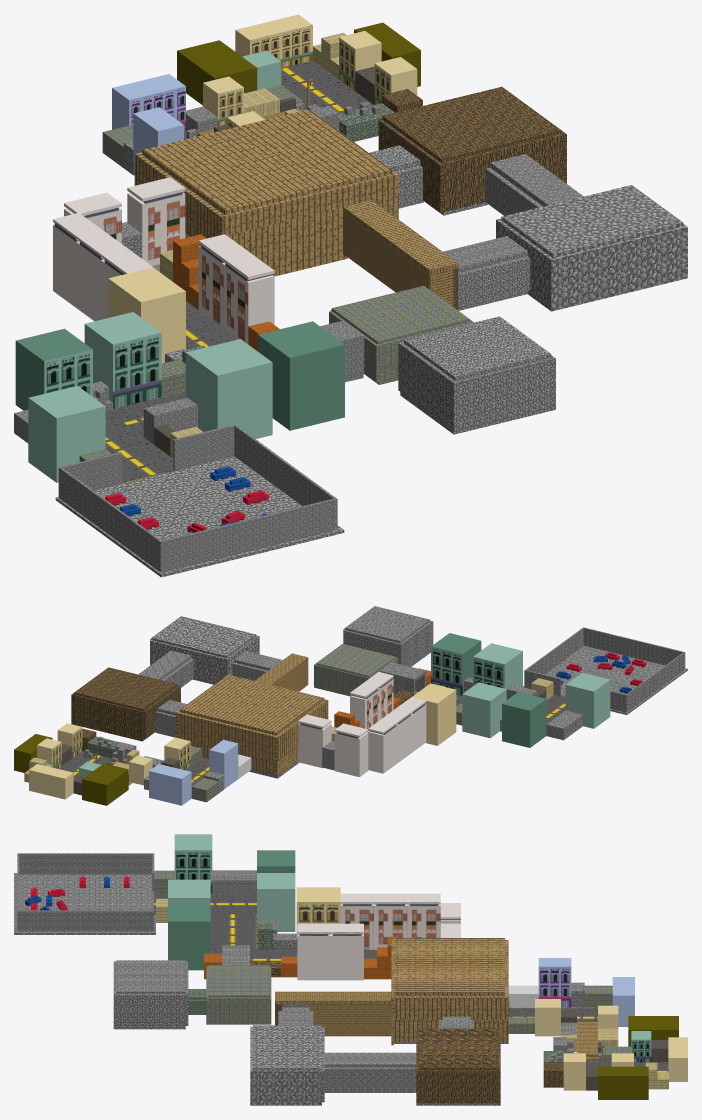
Rendered from Lv1Ver2.fbx.
3 views of the same model, one above another, from view 1: azimuth 30°, elevation 25°; view 2: azimuth 150°, elevation 25°; view 3: azimuth 270°, elevation 25° (orthographic). The views are drawn at different scales.
Parts seen in each view (by area): view 1: Room.017, Room.001, Room.003, Room.005, CarfFoor, Mountain.039, Mountain.045, Room.002, Mountain.042, Wall.002, Mountain.055, Mountain.044 (+39 smaller); view 2: Room.017, Room.005, Room.001, Room.003, Room.002, CarfFoor, Mountain.039, Mountain.044, Mountain.042, Mountain.055, Mountain.045, Mountain.035 (+36 smaller); view 3: Room.017, Room.005, Room.001, Room.003, CarfFoor, Room.002, Wall.003, Wall.001, Mountain.039, Tube.017, Tube.006, Mountain.042 (+36 smaller).
Part boxes in pixels (box(x1,y1,x2,y2)): Room.017: box(134, 109, 395, 276); Room.001: box(496, 185, 687, 311); Room.003: box(398, 316, 555, 434); Room.005: box(378, 86, 566, 212); CarfFoor: box(55, 456, 344, 577); Mountain.039: box(258, 321, 344, 430); Mountain.045: box(185, 339, 272, 438); Room.002: box(329, 285, 473, 384); Mountain.042: box(84, 312, 161, 408); Wall.002: box(162, 498, 334, 571); Mountain.055: box(28, 386, 105, 482); Mountain.044: box(15, 328, 92, 410); Room.017: box(175, 674, 328, 775); Room.005: box(71, 667, 180, 741); Room.001: box(150, 616, 259, 684); Room.003: box(343, 606, 433, 666); Room.002: box(314, 644, 398, 696); CarfFoor: box(523, 646, 687, 714); Mountain.039: box(431, 633, 481, 695); Mountain.044: box(502, 692, 546, 747); Mountain.042: box(462, 682, 506, 738); Mountain.055: box(565, 673, 610, 728); Mountain.045: box(473, 643, 522, 688); Mountain.035: box(412, 683, 456, 745); Room.017: box(394, 938, 508, 1041); Room.005: box(416, 1028, 500, 1105); Room.001: box(250, 1025, 324, 1105); Room.003: box(113, 960, 188, 1029); CarfFoor: box(14, 873, 155, 934); Room.002: box(206, 965, 271, 1024); Wall.003: box(17, 910, 154, 931); Wall.001: box(17, 853, 154, 874); Mountain.039: box(168, 903, 210, 970); Tube.017: box(309, 1004, 391, 1036); Tube.006: box(324, 1067, 416, 1091); Mountain.042: box(257, 873, 295, 931).
Size of the model in its own units: 14560 by 1548 by 17954.
